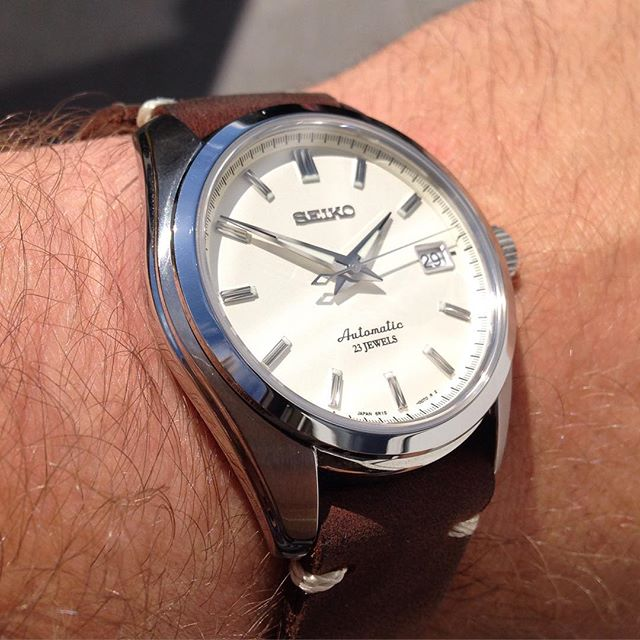clock: (156, 101, 519, 474)
